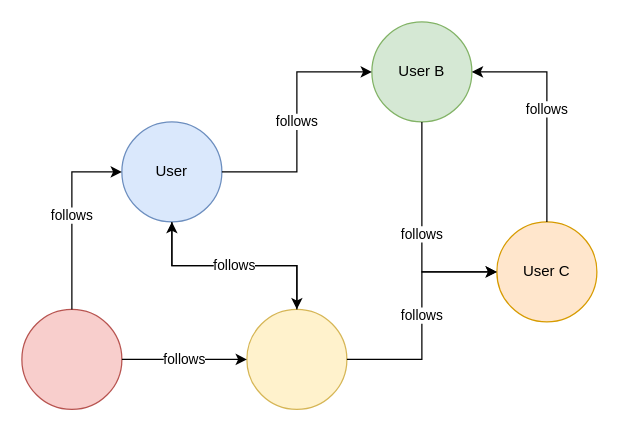
This 619x431 diagram has some shape labels left out. Here are the shapes that lost their labels. From the top down, the centre of each, then its label:
the point at 71,358: User E
the point at 296,358: User D
